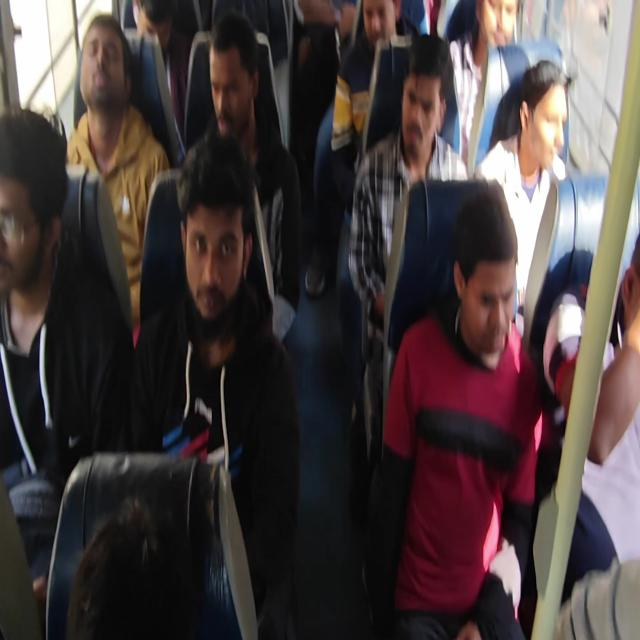person: (61, 498, 182, 638), (169, 164, 253, 306), (443, 232, 525, 362), (0, 126, 65, 283), (205, 34, 257, 149), (517, 55, 569, 167), (81, 26, 138, 109), (392, 61, 436, 158), (476, 0, 511, 59), (359, 0, 394, 46)
